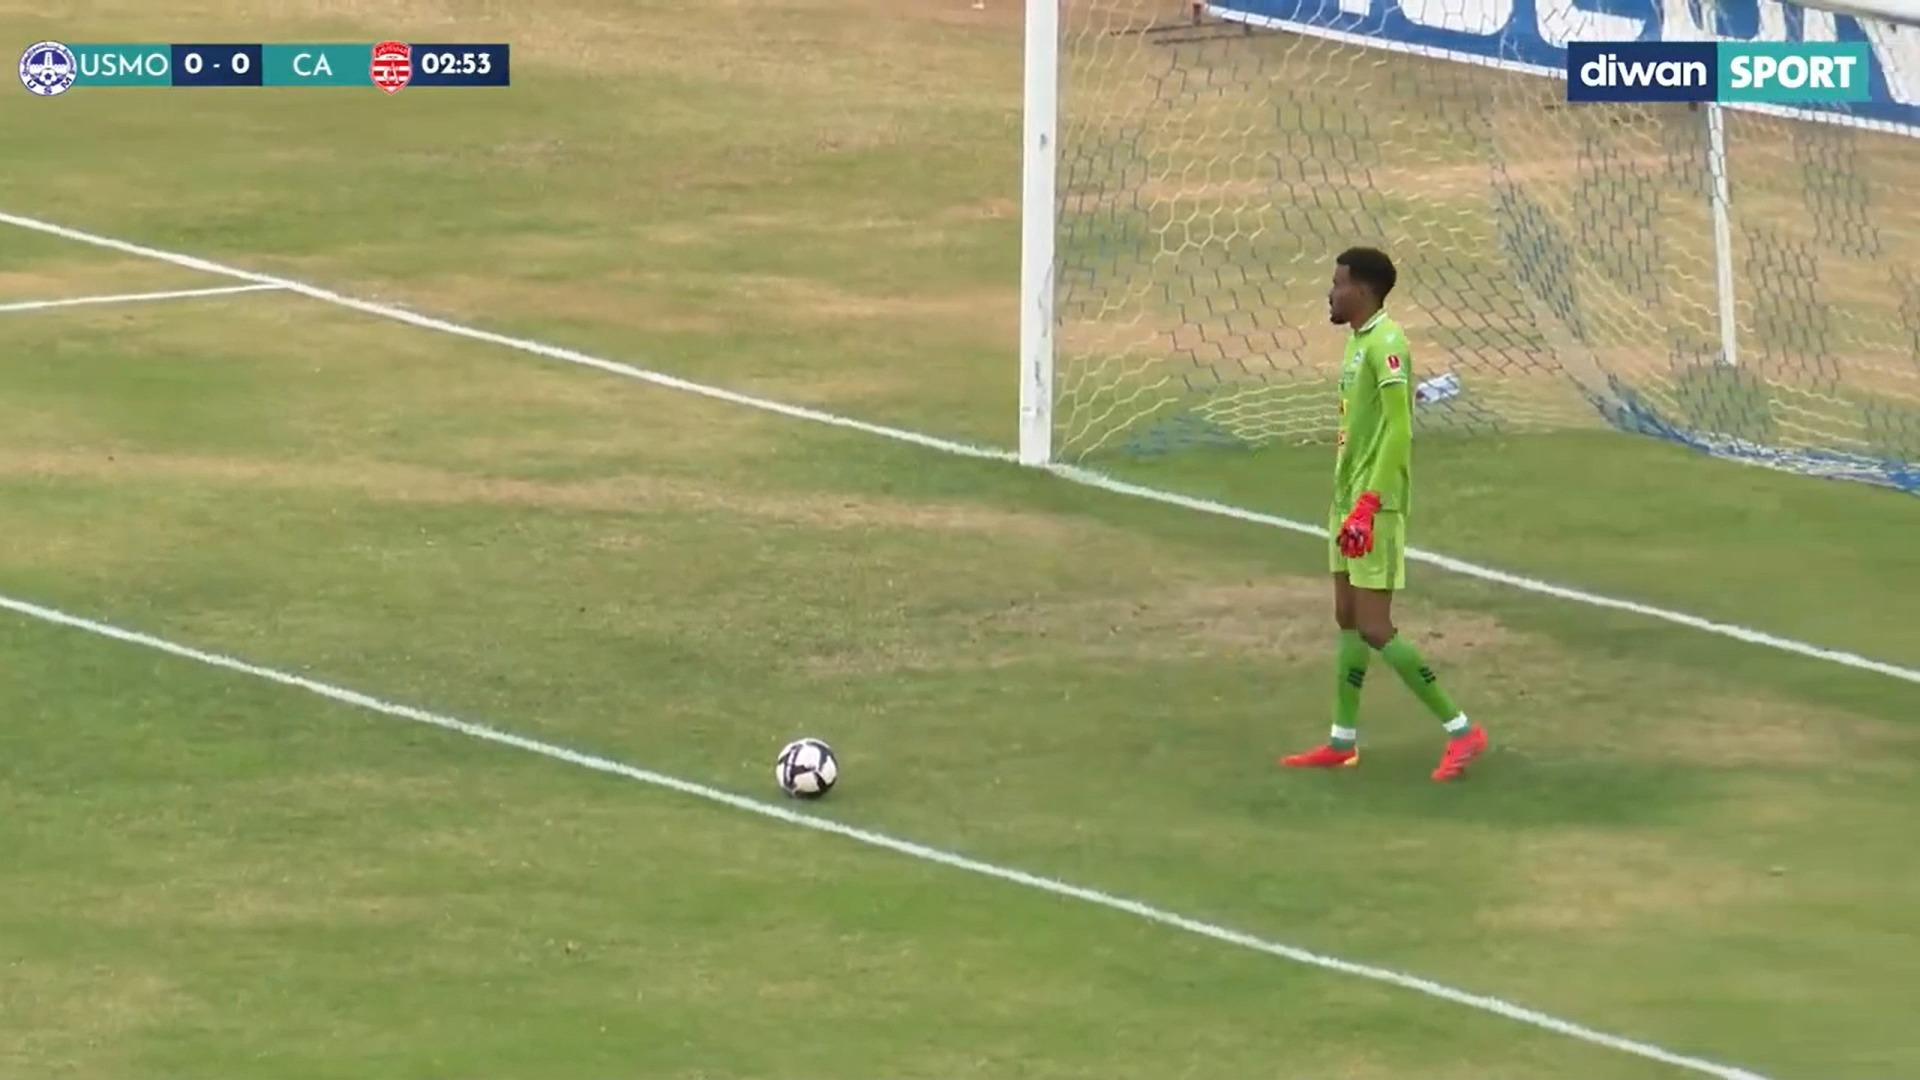ball: (782, 702, 861, 845)
goalkeeper: (1222, 243, 1548, 845)
